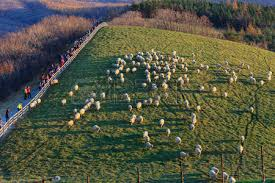sheep: (127, 114, 138, 128), (192, 145, 206, 156), (186, 123, 198, 134), (188, 110, 198, 122), (207, 167, 217, 179), (90, 123, 101, 133), (135, 100, 145, 111), (178, 149, 189, 159), (183, 97, 191, 110), (210, 85, 219, 96), (66, 117, 74, 129), (236, 143, 244, 154), (94, 100, 102, 111), (145, 94, 153, 105), (174, 135, 182, 145), (228, 173, 236, 183), (142, 129, 149, 140), (158, 117, 165, 128), (59, 97, 67, 106), (126, 103, 134, 112), (73, 83, 81, 91), (67, 90, 75, 98), (221, 91, 228, 100), (153, 99, 160, 107), (99, 90, 106, 97)
